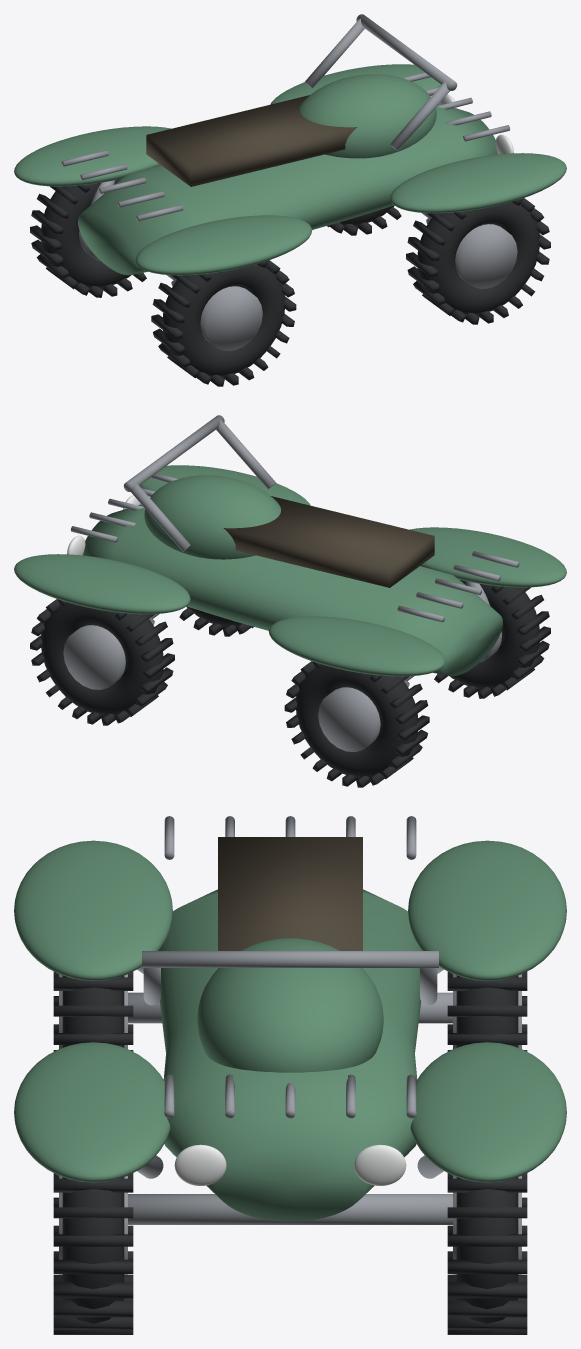
Rendered from quad.glb.
3 views of the same model, one above another, from view 1: azimuth 30°, elevation 25°; view 2: azimuth 150°, elevation 25°; view 3: azimuth 270°, elevation 25° (orthographic). The views are drawn at different scales.
Visible parts, largest first — view 1: SM_quad; view 2: SM_quad; view 3: SM_quad.
Boxes of the visible parts, x1,y1,x2,y2 form: SM_quad: [14, 14, 566, 386]; SM_quad: [14, 415, 566, 787]; SM_quad: [14, 816, 566, 1334].
Size of the model in its own units: 2.3 by 1.16 by 1.6.
